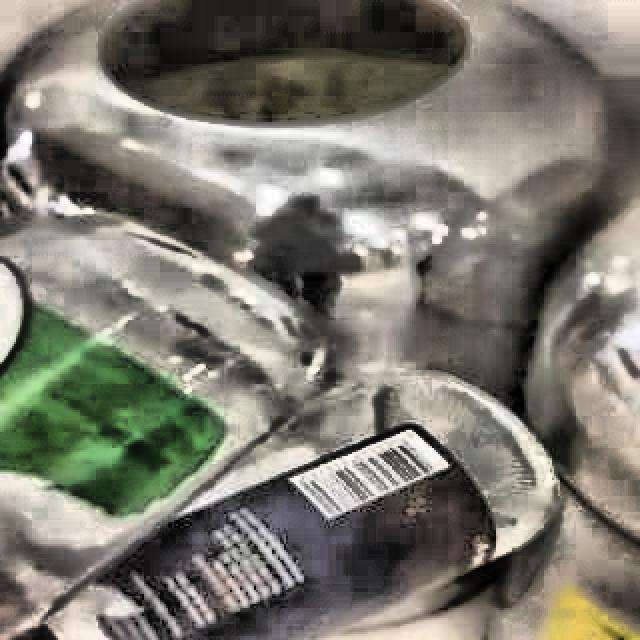glass: (0, 219, 557, 640)
